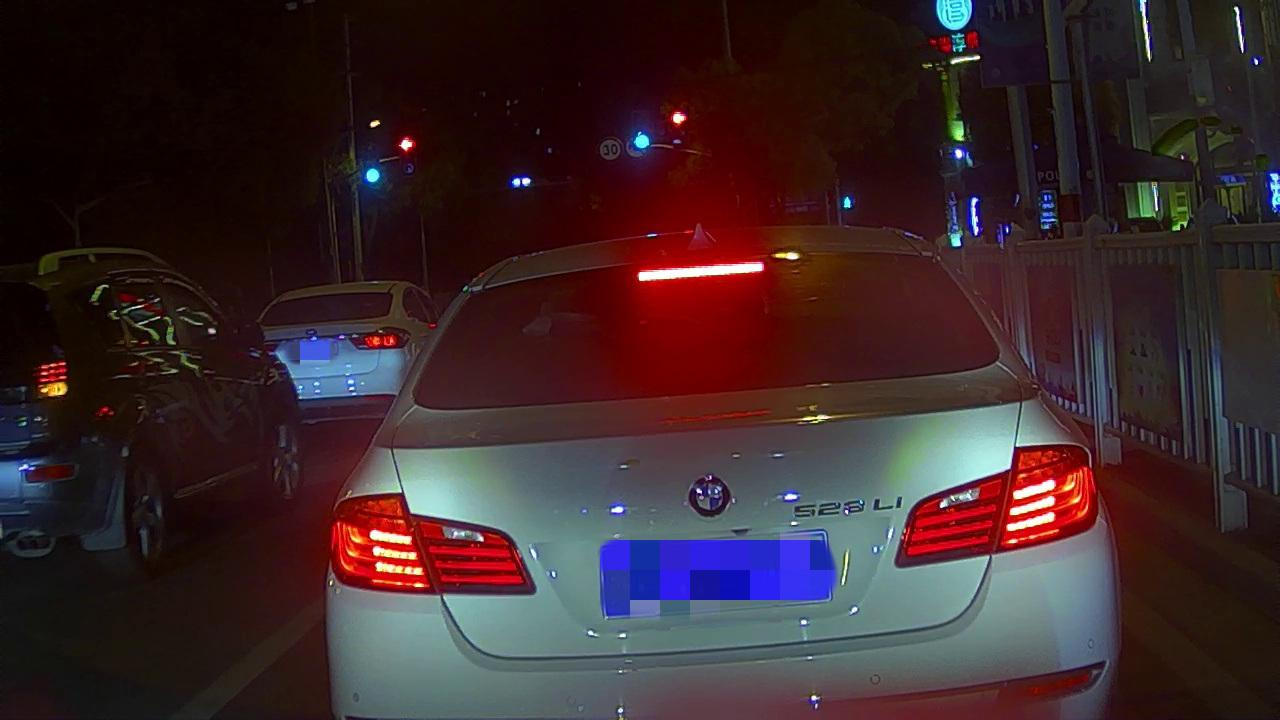traffic_light: (628, 129, 654, 152), (667, 105, 690, 129), (359, 166, 384, 187), (396, 132, 416, 154)
